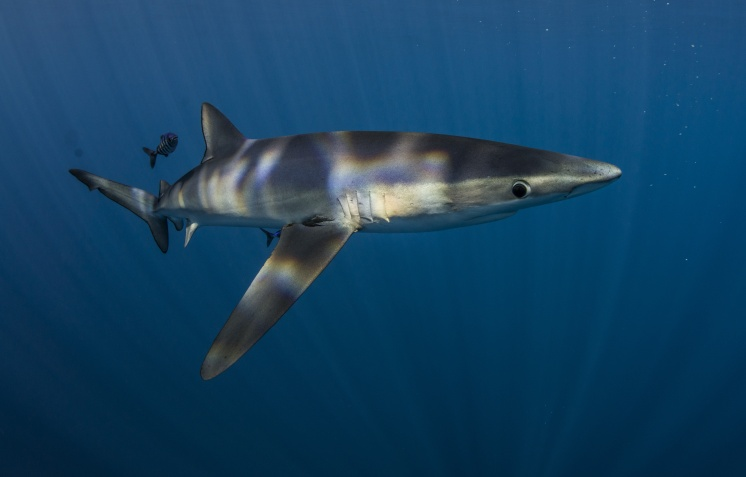Azul: (68, 81, 632, 391)
